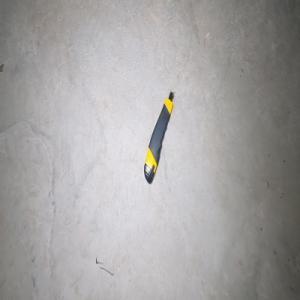Cutter: (143, 91, 175, 185)
